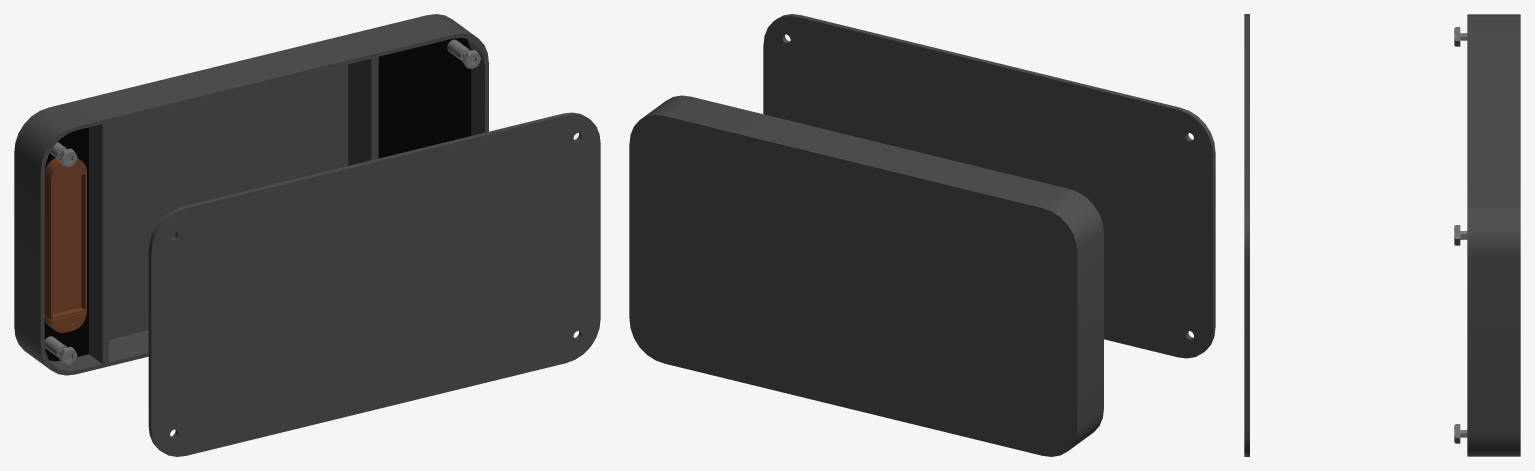
File: GearsPanel 1.fbx
The picture shows the model from 3 angles, left to right: view 1: azimuth 30°, elevation 25°; view 2: azimuth 150°, elevation 25°; view 3: azimuth 270°, elevation 25°; orthographic projection.
Parts seen in each view (by area): view 1: FrontPanel, Box, Timer, Timer_Top; view 2: Box, FrontPanel; view 3: Box, FrontPanel.
Part boxes in pixels (box(x1,y1,x2,y2)): FrontPanel: box(148, 112, 600, 456); Box: box(14, 14, 488, 375); Timer: box(44, 172, 86, 319); Timer_Top: box(44, 158, 86, 180); Box: box(629, 95, 1103, 456); FrontPanel: box(763, 14, 1215, 358); Box: box(1467, 14, 1520, 456); FrontPanel: box(1244, 14, 1249, 456).
Size of the model in its own units: 380 by 200 by 201.
